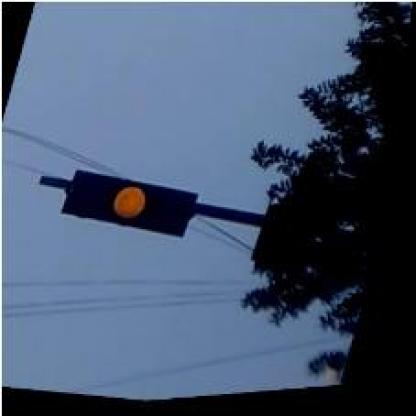yellow: (57, 158, 207, 248)
